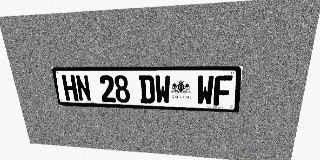2: (99, 75, 116, 102)
8: (113, 75, 130, 103)
D: (139, 75, 155, 104)
F: (213, 75, 232, 106)
H: (61, 75, 78, 101)
N: (75, 75, 92, 102)
W: (196, 75, 214, 105), (154, 75, 171, 104)
